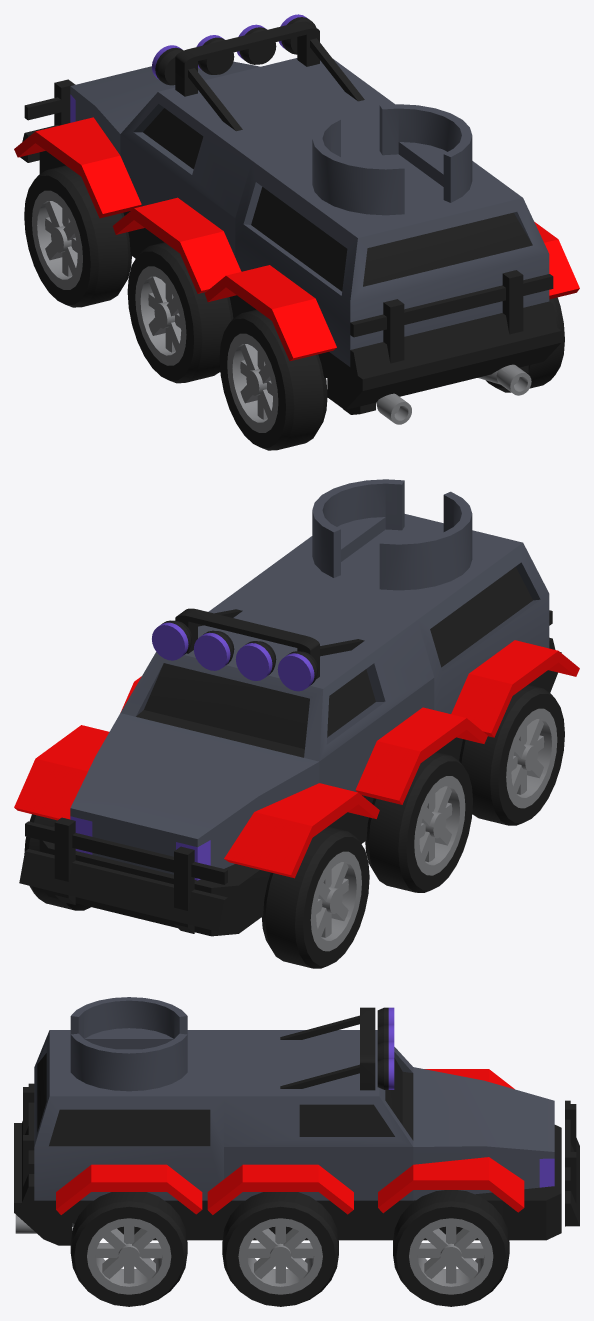
The model's file is tank.fbx.
The picture shows the model from 3 angles, top to bottom: view 1: azimuth 30°, elevation 25°; view 2: azimuth 150°, elevation 25°; view 3: azimuth 270°, elevation 25°; orthographic projection. The views are drawn at different scales.
Visible parts, largest first — view 1: trunk_station_71, windshield_square_63, wheel_spokes%_84, wheel_spokes%_86, detail_bullbar_73, wheel_spokes%_85, detail_bumper_92, detail_fender_89, detail_fenderSquare_75, detail_fenderSquare_83, detail_fender_90, detail_fenderSquare_76 (+8 smaller); view 2: windshield_square_63, hood_truck_65, trunk_station_71, detail_bullbar_72, wheel_spokes%_84, wheel_spokes%_85, wheel_spokes%_86, detail_fenderSquare_83, detail_fender_89, detail_fenderSquare_76, detail_fender_90, detail_fenderSquare_75 (+4 smaller); view 3: windshield_square_63, trunk_station_71, hood_truck_65, wheel_spokes%_82, wheel_spokes%_59, wheel_spokes%_81, detail_fender_89, detail_fender_90, detail_fenderSquare_80, detail_fenderSquare_79, detail_fenderSquare_78, detail_rollbar_88 (+5 smaller).
Part boxes in pixels (left/top/right/bottom): trunk_station_71: left=235, top=129, right=549, bottom=380; windshield_square_63: left=120, top=58, right=394, bottom=318; wheel_spokes%_84: left=24, top=165, right=131, bottom=307; wheel_spokes%_86: left=219, top=309, right=327, bottom=450; detail_bullbar_73: left=350, top=270, right=557, bottom=383; wheel_spokes%_85: left=127, top=242, right=233, bottom=383; detail_bumper_92: left=327, top=327, right=561, bottom=414; detail_fender_89: left=379, top=104, right=472, bottom=202; detail_fenderSquare_75: left=204, top=265, right=336, bottom=360; detail_fenderSquare_83: left=14, top=117, right=141, bottom=218; detail_fender_90: left=312, top=116, right=404, bottom=215; detail_fenderSquare_76: left=112, top=197, right=241, bottom=293; windshield_square_63: left=120, top=579, right=434, bottom=843; hood_truck_65: left=39, top=713, right=319, bottom=936; trunk_station_71: left=252, top=514, right=549, bottom=760; detail_bullbar_72: left=19, top=817, right=227, bottom=933; wheel_spokes%_84: left=261, top=826, right=369, bottom=968; wheel_spokes%_85: left=365, top=752, right=472, bottom=892; wheel_spokes%_86: left=459, top=685, right=564, bottom=825; detail_fenderSquare_83: left=224, top=783, right=379, bottom=878; detail_fender_89: left=312, top=479, right=404, bottom=577; detail_fenderSquare_76: left=355, top=707, right=487, bottom=804; detail_fender_90: left=379, top=491, right=472, bottom=590; detail_fenderSquare_75: left=451, top=640, right=579, bottom=737; windshield_square_63: left=224, top=1030, right=413, bottom=1240; trunk_station_71: left=34, top=1030, right=223, bottom=1240; hood_truck_65: left=413, top=1067, right=561, bottom=1240; wheel_spokes%_82: left=393, top=1190, right=509, bottom=1306; wheel_spokes%_59: left=70, top=1192, right=187, bottom=1306; wheel_spokes%_81: left=222, top=1192, right=338, bottom=1306; detail_fender_89: left=70, top=1033, right=187, bottom=1091; detail_fender_90: left=70, top=997, right=187, bottom=1049; detail_fenderSquare_80: left=378, top=1157, right=524, bottom=1213; detail_fenderSquare_79: left=56, top=1164, right=202, bottom=1214; detail_fenderSquare_78: left=207, top=1164, right=353, bottom=1214; detail_rollbar_88: left=280, top=1007, right=375, bottom=1090.
Bounding box in the file's own units: 14.4 × 13.28 × 29.88.
